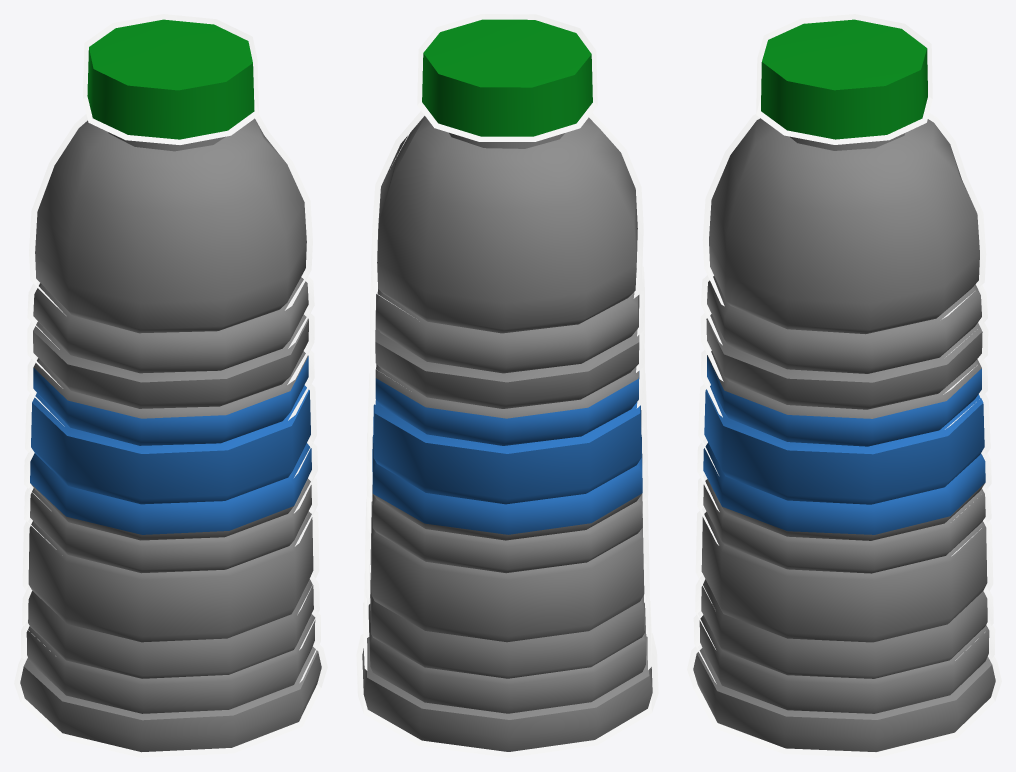
File: Botella.glb
3 renders of one model, left to right at view 1: azimuth 30°, elevation 25°; view 2: azimuth 150°, elevation 25°; view 3: azimuth 270°, elevation 25°, orthographic.
Parts seen in each view (by area): view 1: Plane; view 2: Plane; view 3: Plane.
Boxes of the visible parts, left/top/right/bottom form: Plane: left=14, top=14, right=327, bottom=757; Plane: left=356, top=14, right=658, bottom=757; Plane: left=687, top=14, right=1001, bottom=757.
Size of the model in its own units: 2.5 by 5.82 by 2.55.
